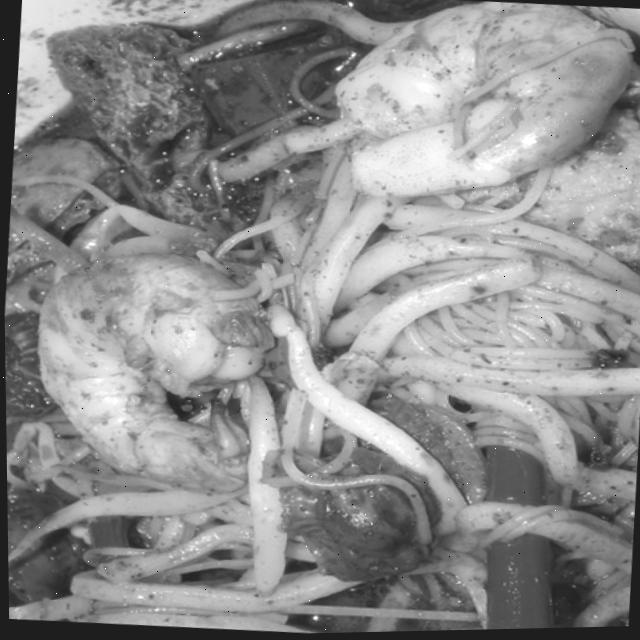面条主食: (9, 0, 640, 640)
